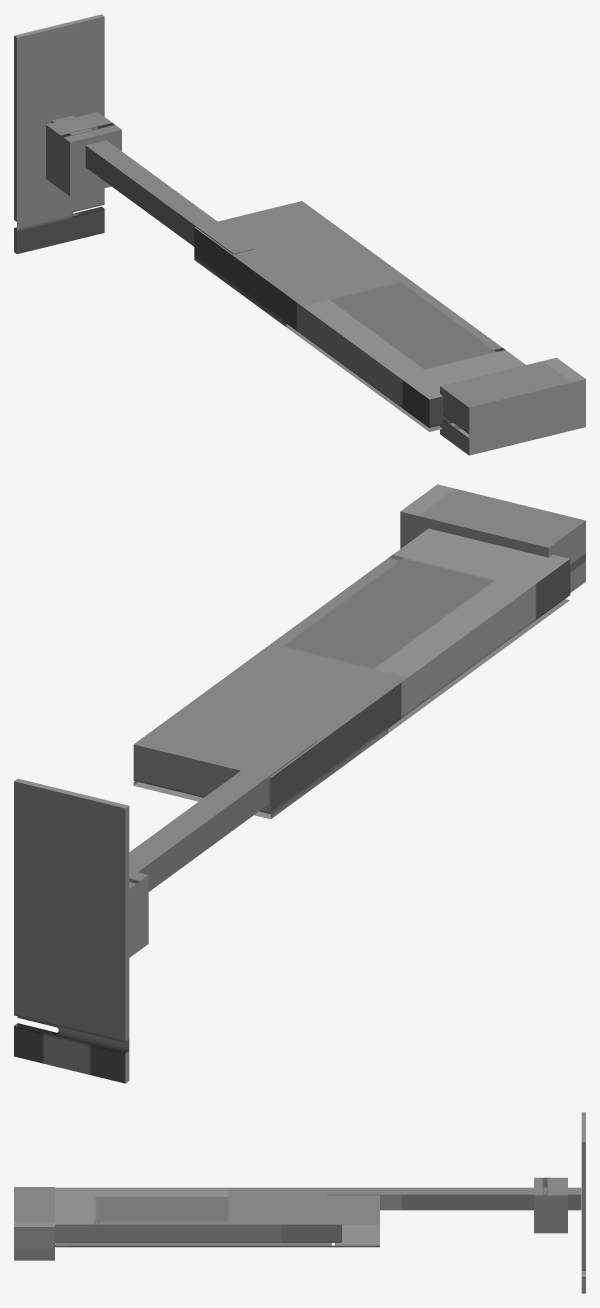
3 renders of one model, top to bottom at view 1: azimuth 30°, elevation 25°; view 2: azimuth 150°, elevation 25°; view 3: azimuth 270°, elevation 25°, orthographic. The views are drawn at different scales.
Bounding box in the file's own units: 0.5443 × 0.6892 × 2.36.
